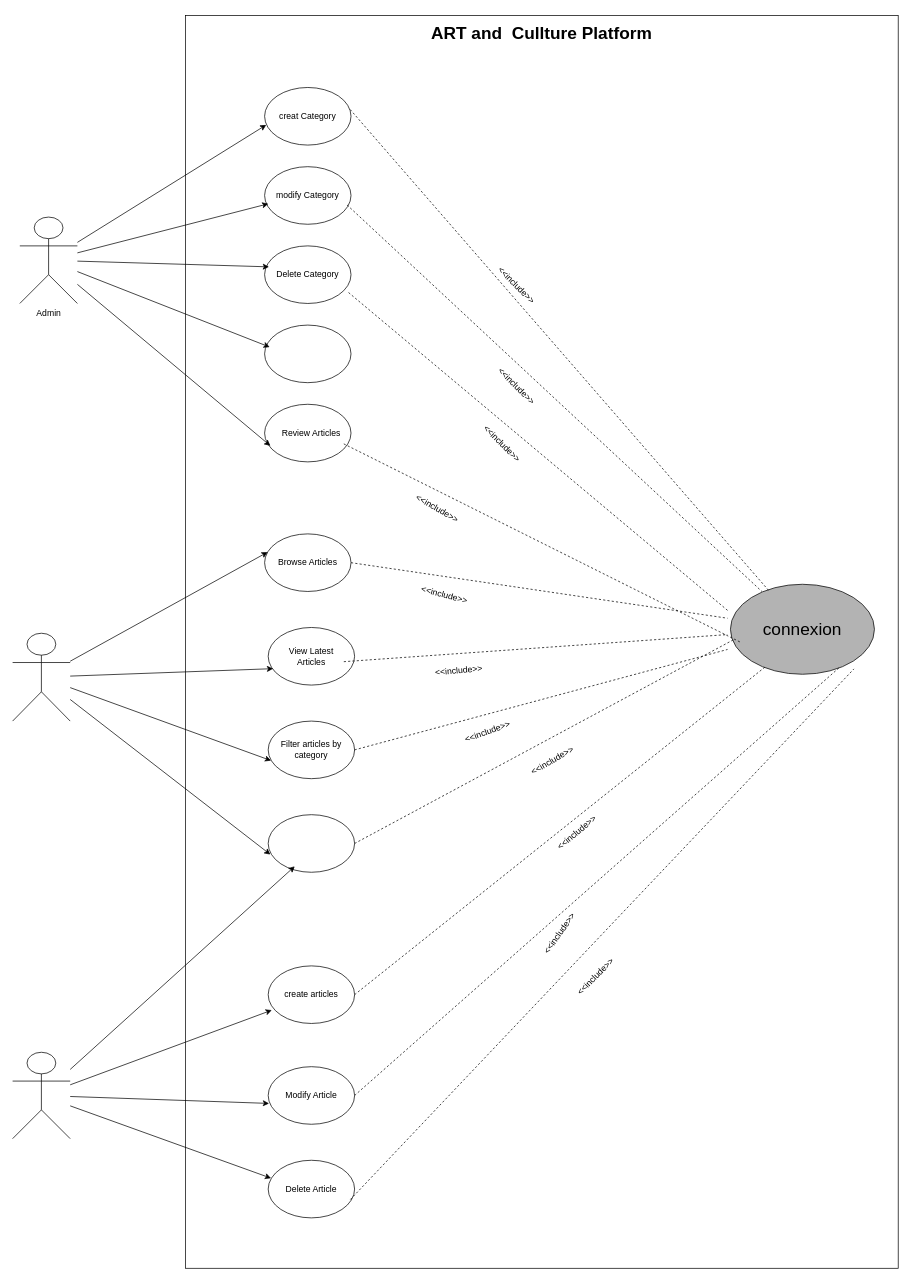
This 911x1281 diagram has some shape labels left out. The centre of each missing label's shape, as x and y in pixels:
"Author" belongs at (41,1095).
"Registration" belongs at (311,843).
"User" belongs at (41,677).
"View user profiles" belongs at (307,353).
